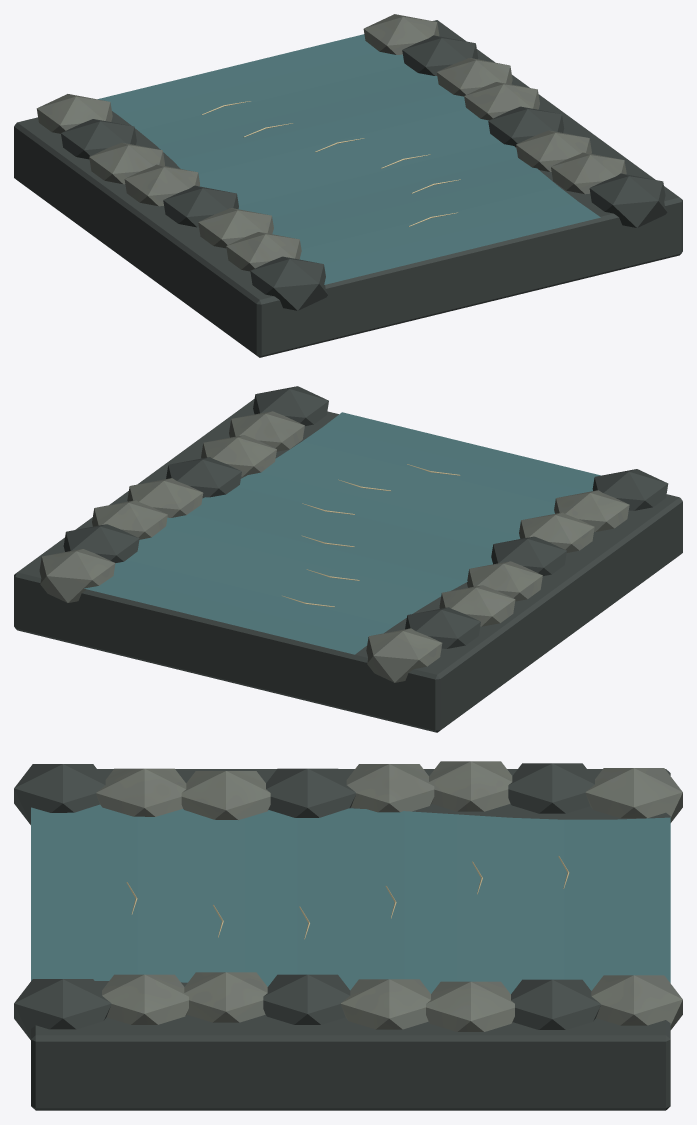
The model's file is NA_StreamBed_2m.glb.
The picture shows the model from 3 angles, top to bottom: view 1: azimuth 30°, elevation 25°; view 2: azimuth 150°, elevation 25°; view 3: azimuth 270°, elevation 25°; orthographic projection. The views are drawn at different scales.
Visible parts, largest first — view 1: NA_StreamBed_2m; view 2: NA_StreamBed_2m; view 3: NA_StreamBed_2m.
Boxes of the visible parts, <box> form: NA_StreamBed_2m: <box>14,14,682,357</box>; NA_StreamBed_2m: <box>14,386,682,732</box>; NA_StreamBed_2m: <box>14,761,682,1110</box>.
Size of the model in its own units: 2 by 0.365 by 2.09.
4 materials, 2 textured.
